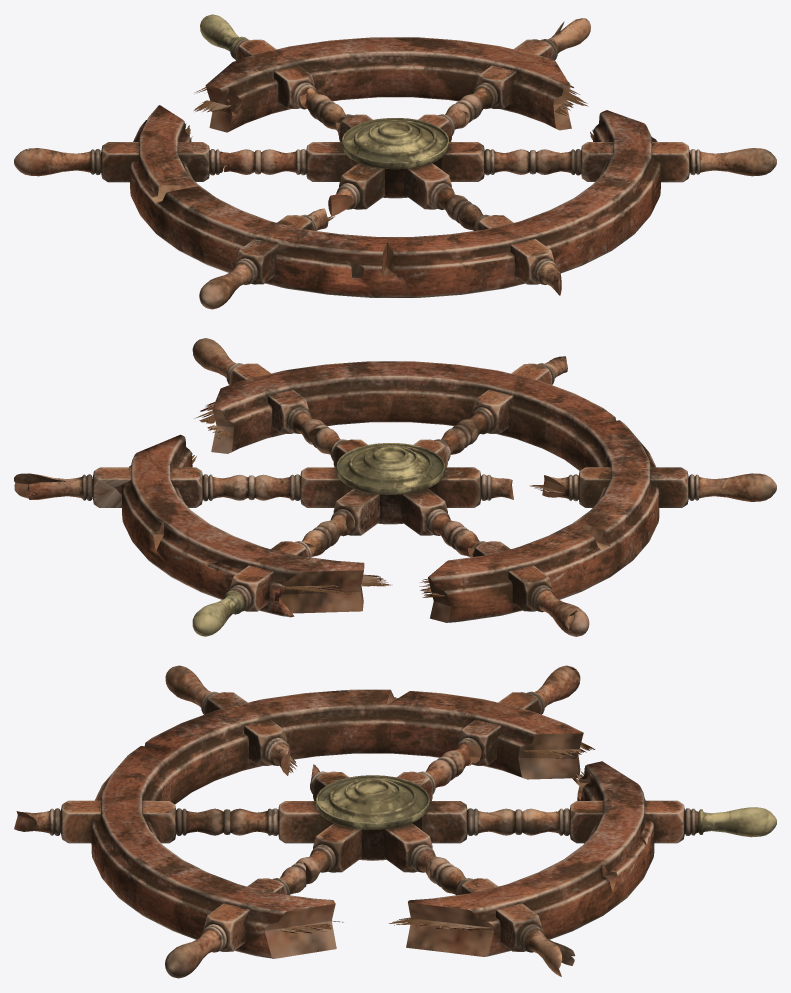
File: Ship_Wheel_LowHealth.fbx
3 renders of one model, top to bottom at view 1: azimuth 30°, elevation 25°; view 2: azimuth 150°, elevation 25°; view 3: azimuth 270°, elevation 25°, orthographic. The views are drawn at different scales.
Visible parts, largest first — view 1: Wheel_1HP; view 2: Wheel_1HP; view 3: Wheel_1HP.
Part boxes in pixels (box(x1,y1,x2,y2)): Wheel_1HP: box(14, 14, 776, 309); Wheel_1HP: box(14, 338, 776, 636); Wheel_1HP: box(14, 665, 776, 978).
Bounding box in the file's own units: 2.48 × 0.2426 × 2.7.
